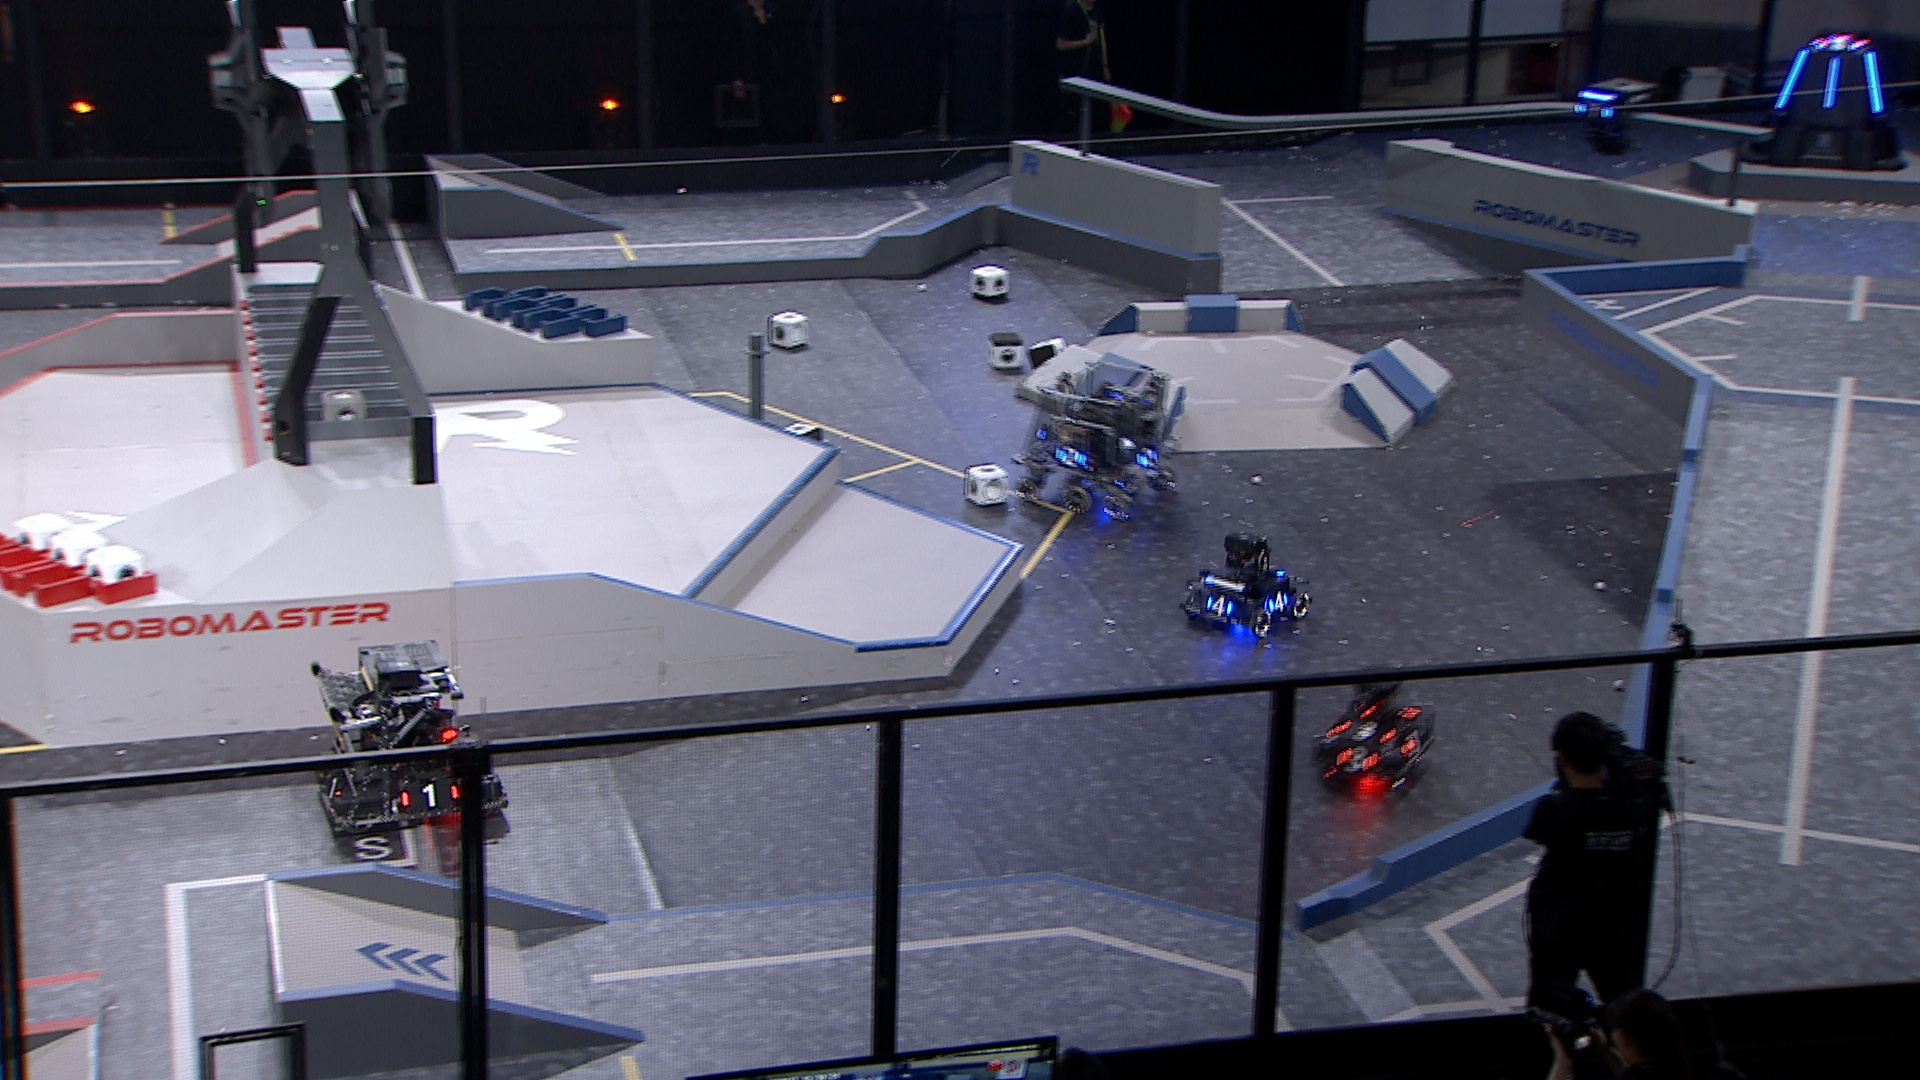armor: (400, 783, 465, 818), (1774, 49, 1808, 111), (1338, 716, 1400, 746), (1865, 47, 1884, 113), (1338, 744, 1379, 774), (1054, 443, 1092, 472), (1572, 100, 1617, 123), (1825, 55, 1844, 109), (320, 767, 349, 798), (1130, 444, 1163, 471), (1203, 593, 1236, 618), (1400, 727, 1425, 757), (1263, 593, 1292, 617)
base: (1735, 32, 1913, 173)
car: (309, 638, 513, 843), (1015, 352, 1182, 527), (1313, 659, 1439, 793), (1178, 527, 1316, 645)
ignore: (1816, 33, 1859, 53)
watcher: (1569, 74, 1654, 158)
